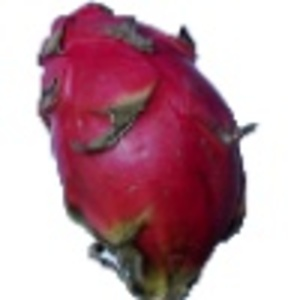pitaia: (36, 1, 261, 300)
